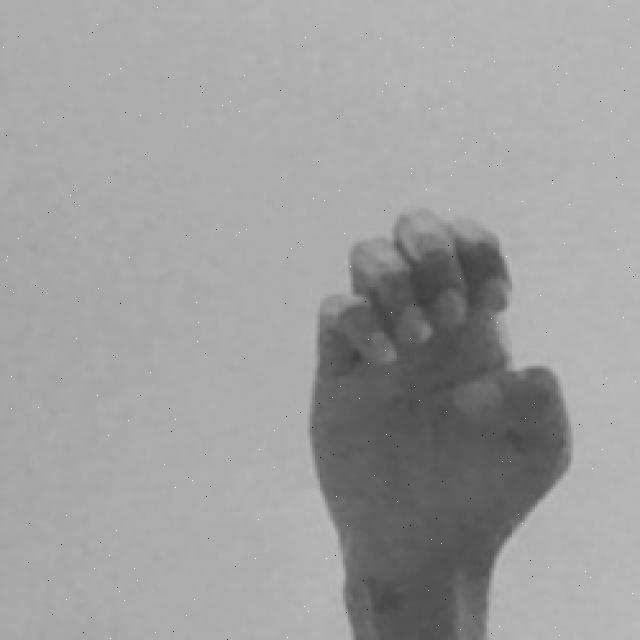E: (302, 205, 574, 640)
